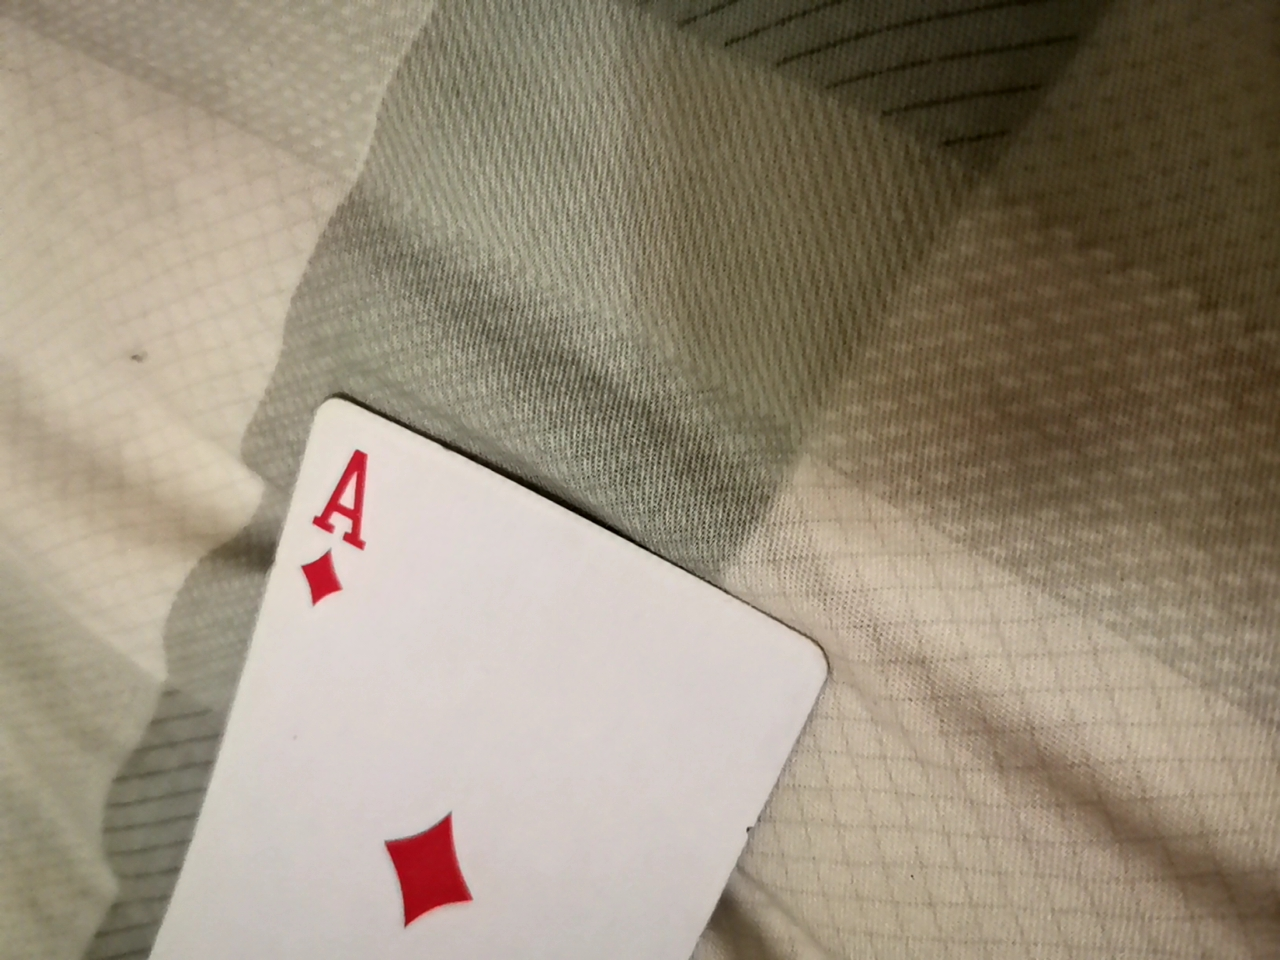fk a: (81, 393, 847, 955)
